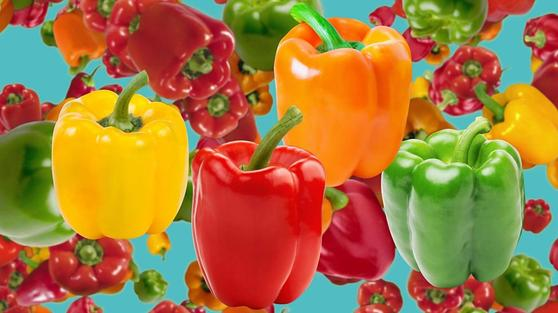pepper: (195, 131, 325, 309)
